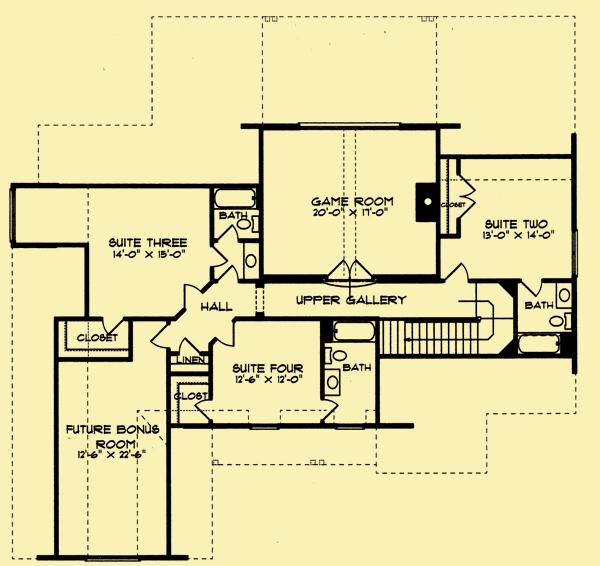door: (457, 173, 481, 220), (327, 257, 372, 281), (212, 321, 241, 354), (174, 335, 205, 360), (178, 283, 205, 311), (148, 321, 171, 352), (444, 261, 473, 283), (191, 397, 216, 422), (209, 244, 230, 272), (96, 315, 123, 336), (214, 222, 238, 244), (321, 397, 339, 420)
large_sink: (541, 309, 574, 333), (323, 345, 349, 365)
small_sink: (243, 241, 260, 280), (323, 367, 342, 399), (553, 281, 573, 309)
stairs: (379, 316, 482, 358)
tub: (211, 189, 257, 211), (518, 332, 561, 355), (334, 321, 374, 345)
